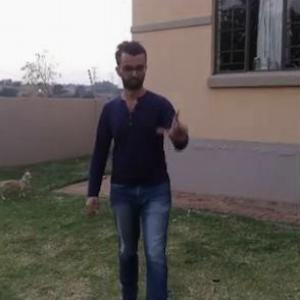land_hand: (154, 104, 195, 148)
